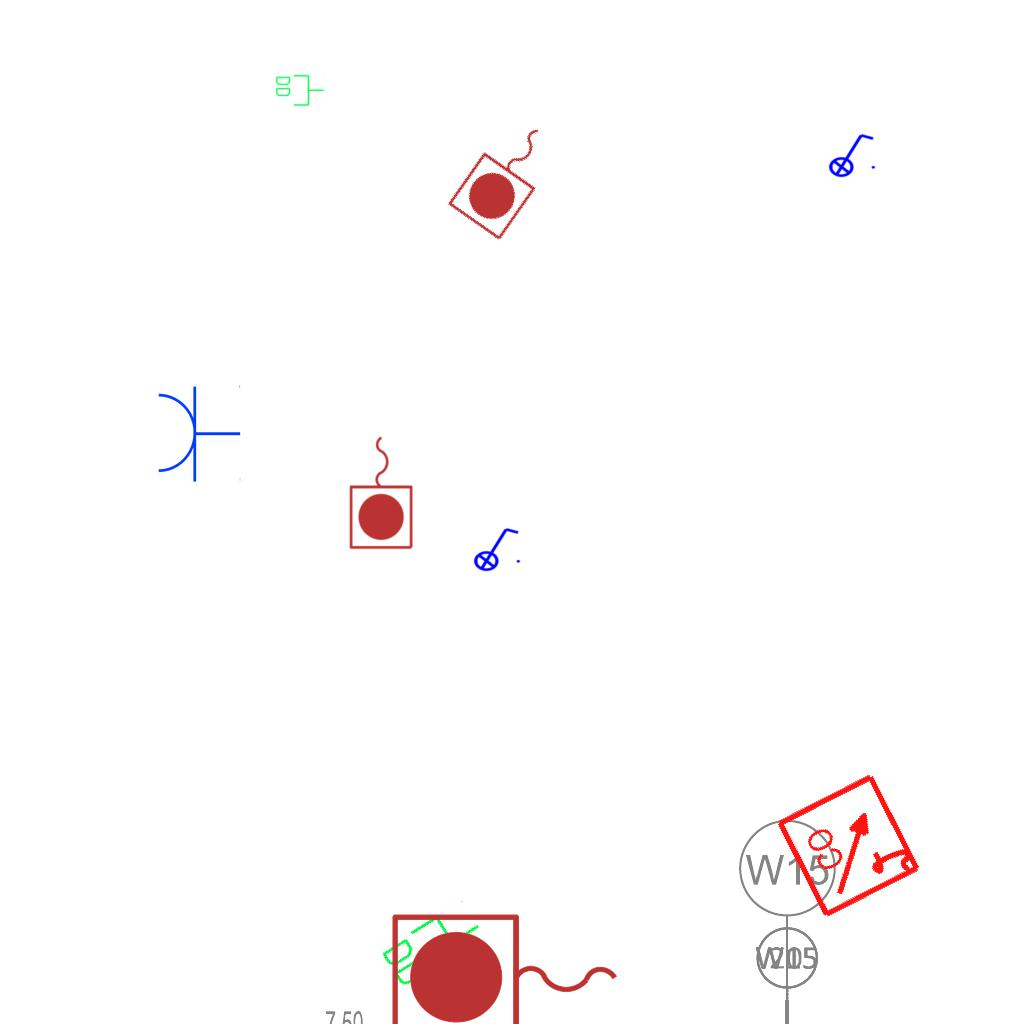Ausschalter_beleuchtet: (467, 524, 523, 572), (822, 130, 878, 178)
Datenanschluss_zweifach: (374, 894, 499, 1009), (274, 73, 325, 107)
ROA_Rauchmelder_optisch_mit_Signalgeber_(Sockelsirene): (773, 768, 926, 921)
Schukosteckdose_einfach: (154, 383, 241, 483)
Zugtaster: (384, 907, 628, 1024), (442, 105, 572, 247), (346, 431, 418, 553)
